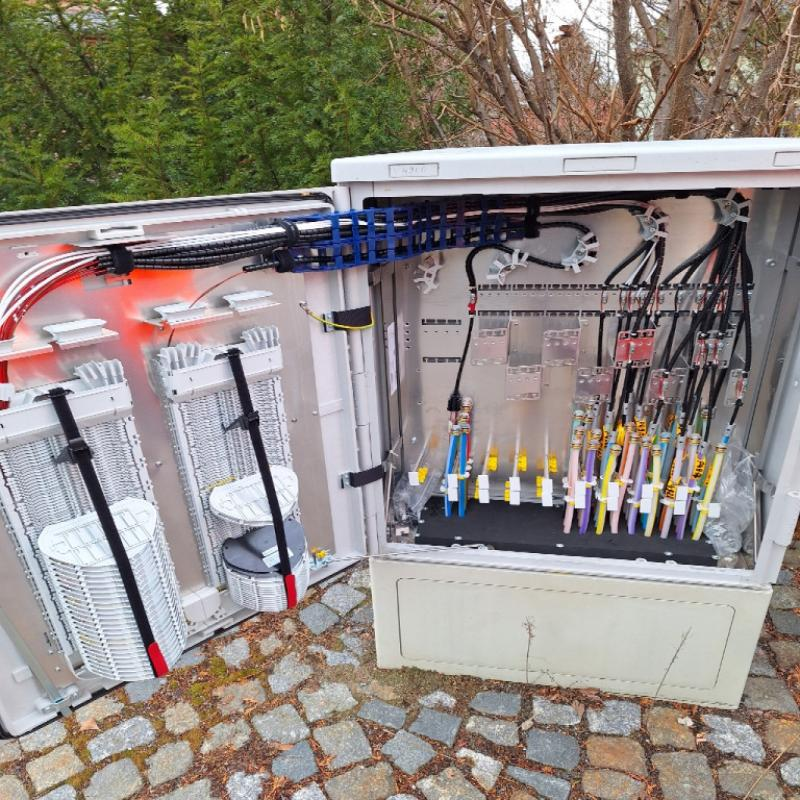NT-Gehause: (0, 137, 798, 733)
Spleiskassetten: (0, 313, 192, 684), (136, 284, 316, 620)
